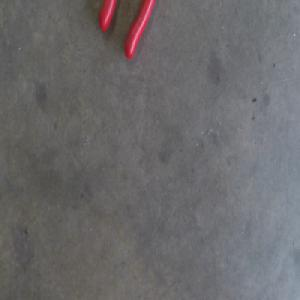Pliers: (98, 0, 156, 59)
